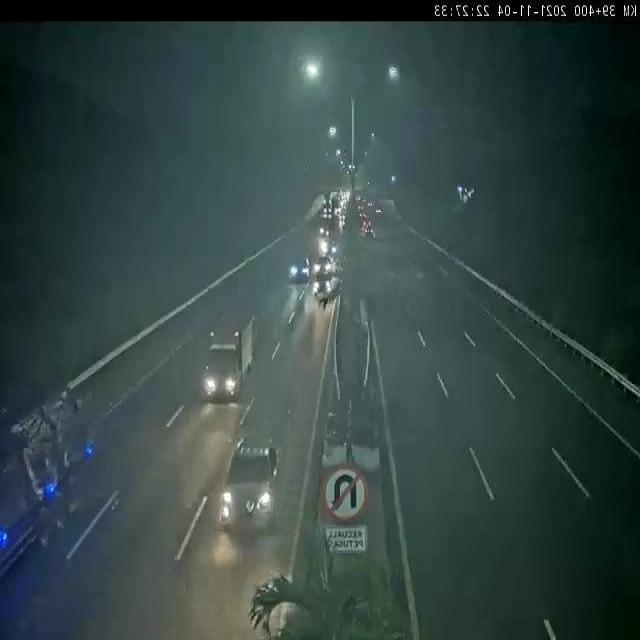Car: (210, 431, 282, 543), (284, 254, 315, 289), (310, 255, 333, 282)
Truck: (0, 374, 110, 606), (196, 302, 266, 402)
